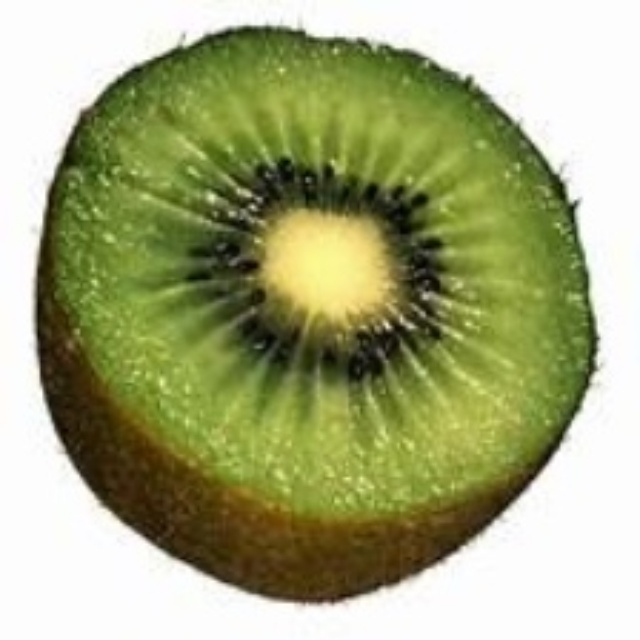kiwi: (37, 24, 605, 607)
